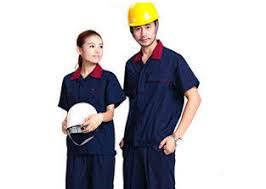Person_wearing_helmet: (122, 0, 161, 28)
